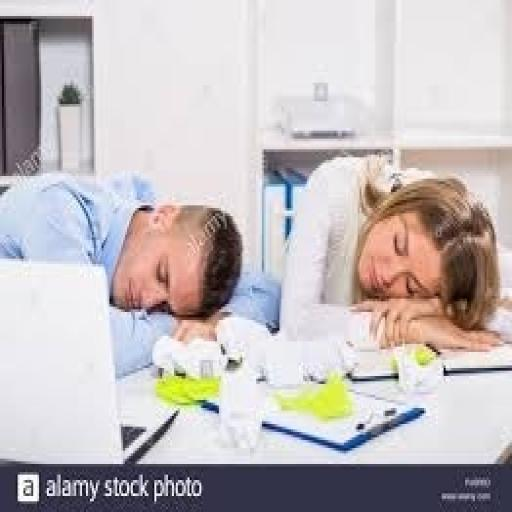sleeping: (0, 168, 246, 379), (278, 149, 508, 355)
